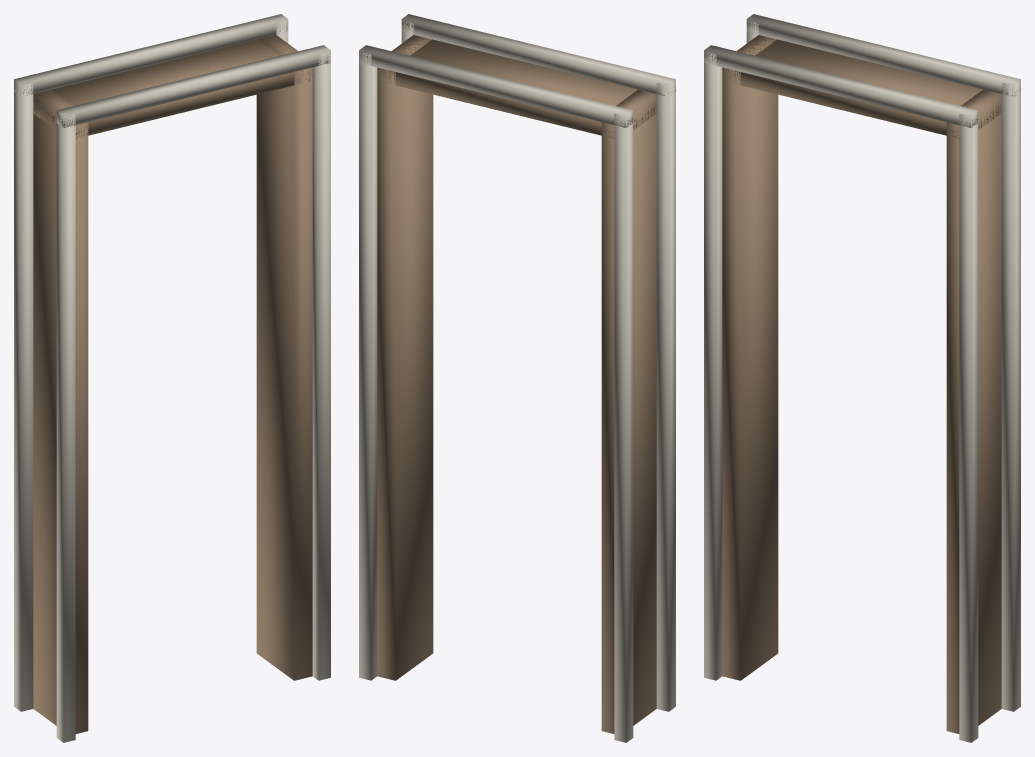
The model's file is doorway_painted_trim_w76_h210_d24.glb.
3 views of the same model, side by side, from view 1: azimuth 30°, elevation 25°; view 2: azimuth 150°, elevation 25°; view 3: azimuth 330°, elevation 25° (orthographic).
Parts seen in each view (by area): view 1: world; view 2: world; view 3: world.
Part boxes in pixels (x1,y1,x2,y2): world: (14,14,330,742); world: (359,14,675,742); world: (704,14,1020,742).
Size of the model in its own units: 0.9868 by 2.21 by 0.3165.
